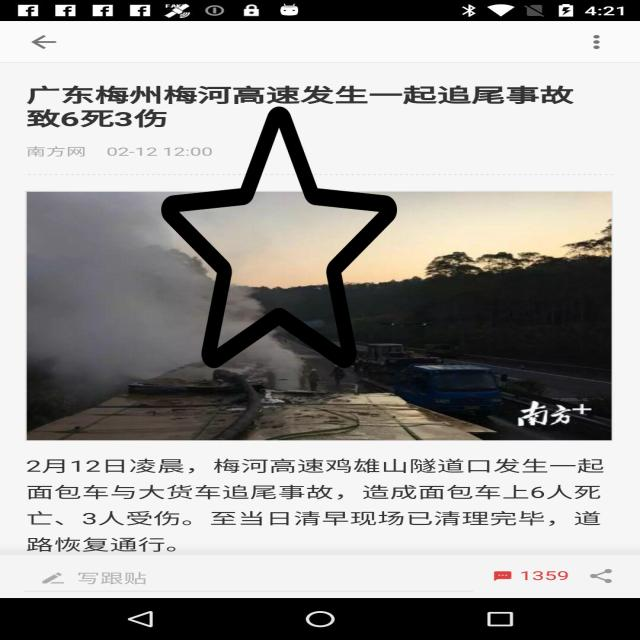forced continuity: (161, 100, 397, 374)
